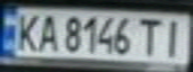1: (78, 14, 100, 53)
4: (97, 14, 118, 54)
6: (112, 13, 139, 55)
8: (60, 12, 81, 53)
A: (33, 11, 60, 53)
I: (157, 16, 190, 57)
K: (9, 10, 42, 52)
T: (136, 15, 163, 56)
